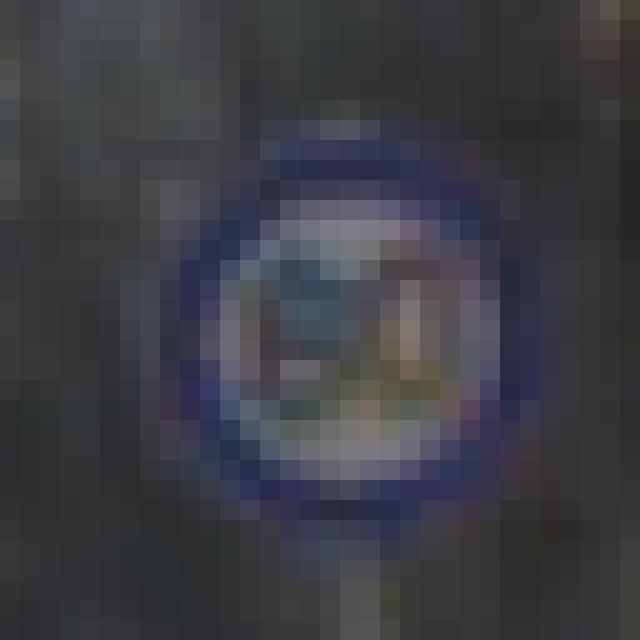SPEED-LIMIT-80: (175, 149, 533, 528)
